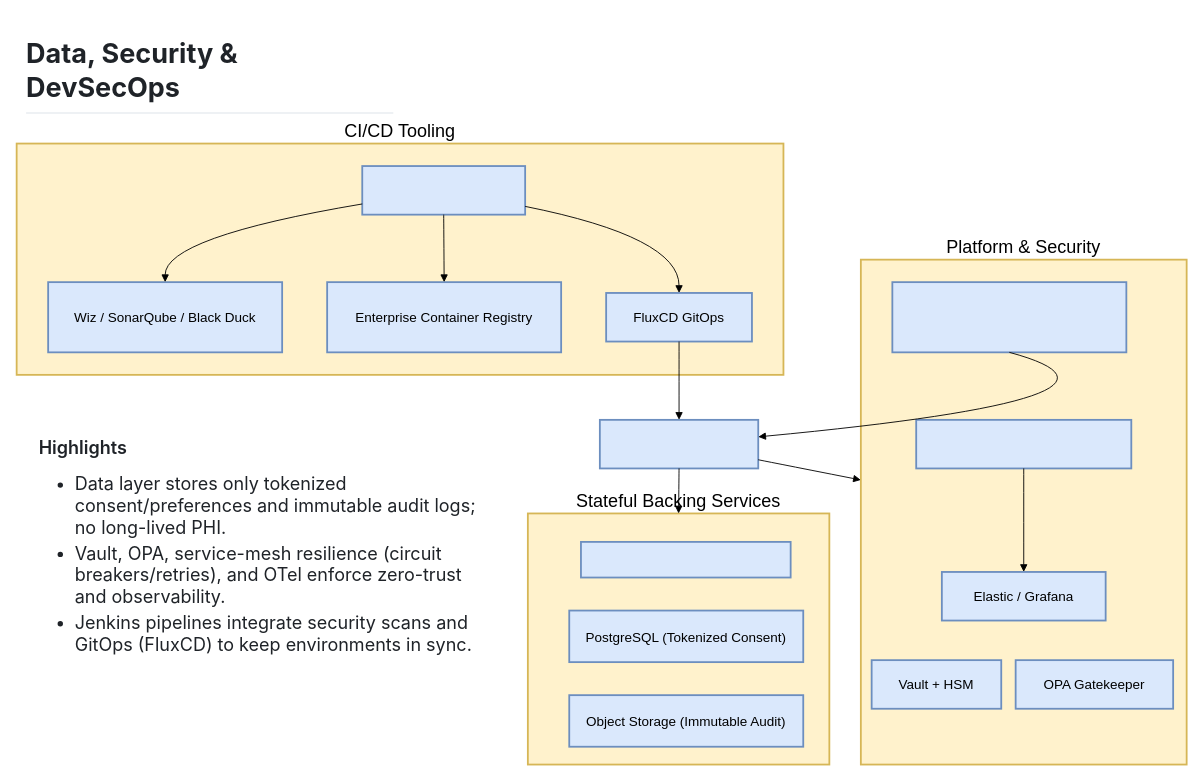
This 1202x781 diagram has some shape labels left out. Here are the shapes that lost their labels. From the top down, the centre of each, then its label:
At point 443,190: "Jenkins Pipelines".
At point 1009,317: "Service Mesh Resilience (Circuit Breakers / Retries)".
At point 678,443: "Domain Services".
At point 1023,443: "OpenTelemetry Collector".
At point 685,559: "Redis (Session, Non-PHI)".
